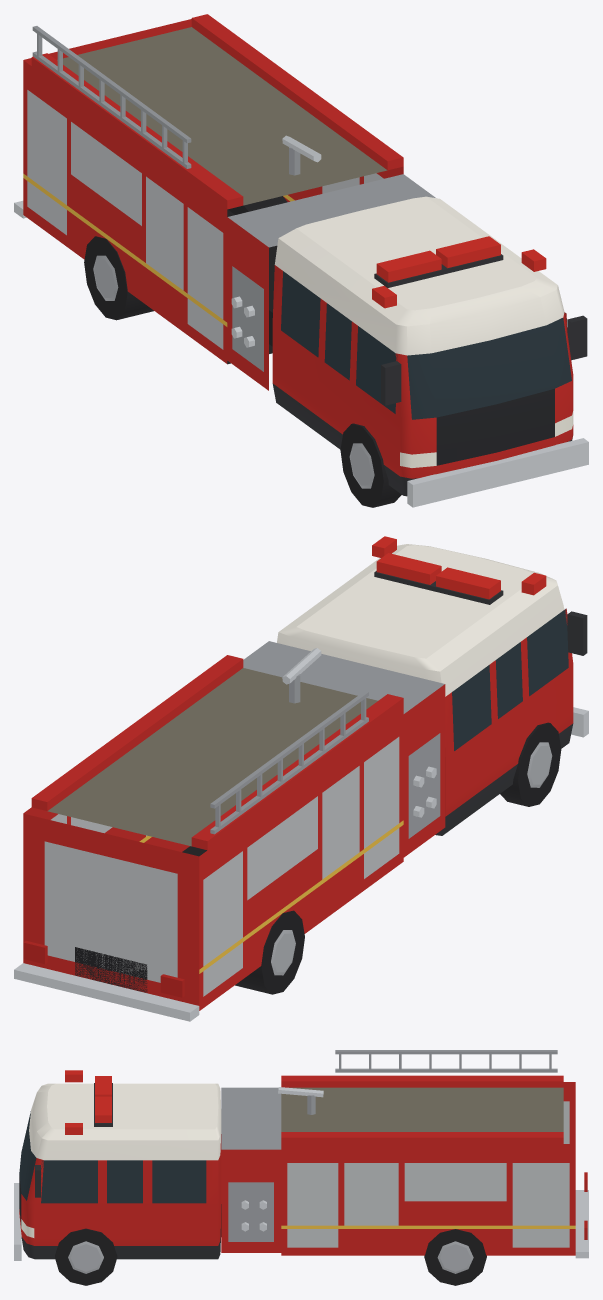
Rendered from sf_fire_engine.glb.
The picture shows the model from 3 angles, top to bottom: view 1: azimuth 30°, elevation 25°; view 2: azimuth 150°, elevation 25°; view 3: azimuth 270°, elevation 25°; orthographic projection. The views are drawn at different scales.
Visible parts, largest first — view 1: sf_fire_engine; view 2: sf_fire_engine; view 3: sf_fire_engine.
Boxes of the visible parts, <box> form: sf_fire_engine: <box>14,14,588,507</box>; sf_fire_engine: <box>14,536,588,1021</box>; sf_fire_engine: <box>14,1050,588,1285</box>.
Bounding box in the file's own units: 2.8 × 3.17 × 9.57.
Materials: 1 (1 with a texture image).
